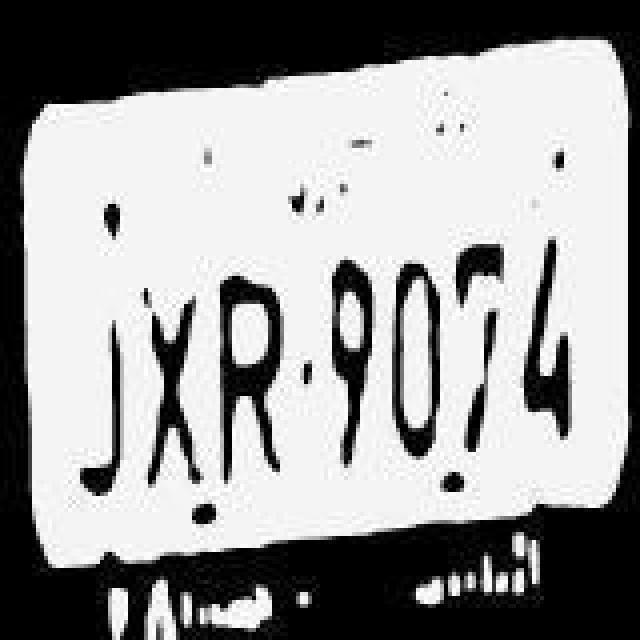4: (510, 244, 578, 492)
7: (444, 248, 508, 488)
9: (314, 238, 382, 490)
J: (62, 292, 130, 500)
O: (380, 252, 444, 484)
R: (206, 256, 290, 488)
X: (134, 272, 210, 496)
